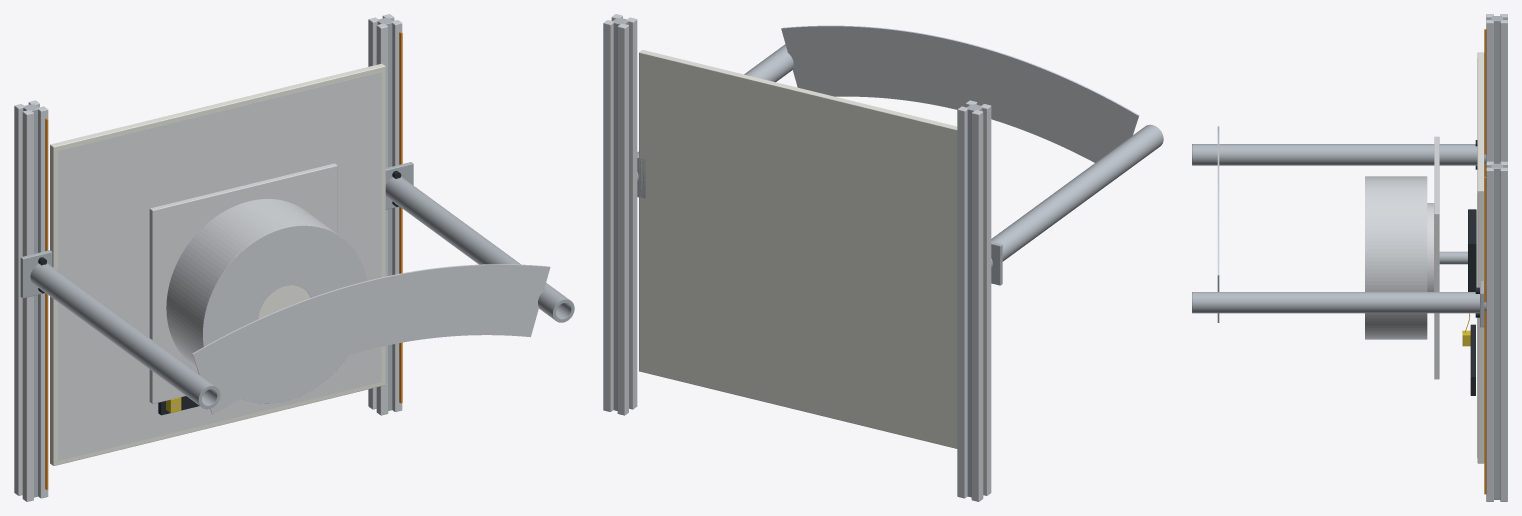
Rendered from prepared_cooler_fixed.glb.
3 renders of one model, left to right at view 1: azimuth 30°, elevation 25°; view 2: azimuth 150°, elevation 25°; view 3: azimuth 270°, elevation 25°, orthographic. The views are drawn at different scales.
Visible parts, largest first — view 1: COOLER_FIXED_BAND__mylar_base, COOLER_FIXED_BAND__fixed_reflector_band, COOLER_FIXED_BAND__aperture_plate, COOLER_FIXED_BAND__lift_plate, COOLER_FIXED_BAND__radiation_shield, COOLER_FIXED_BAND__acrylic_base, COOLER_FIXED_BAND__upright_-0.1625, COOLER_FIXED_BAND__upright_0.1625, COOLER_FIXED_BAND__rail_-0.1625_flange_-1_1, COOLER_FIXED_BAND__rail_-0.1625_flange_-1_-1, COOLER_FIXED_BAND__rail_-0.1625_flange_1_1, COOLER_FIXED_BAND__rail_0.1625_flange_1_1 (+8 smaller); view 2: COOLER_FIXED_BAND__acrylic_base, COOLER_FIXED_BAND__fixed_reflector_band, COOLER_FIXED_BAND__upright_-0.1625, COOLER_FIXED_BAND__rail_-0.1625_flange_-1_-1, COOLER_FIXED_BAND__rail_0.1625_flange_-1_-1, COOLER_FIXED_BAND__rail_-0.1625_flange_1_-1, COOLER_FIXED_BAND__rail_0.1625_flange_1_-1, COOLER_FIXED_BAND__rail_0.1625_flange_-1_1, COOLER_FIXED_BAND__rail_-0.1625_flange_-1_1, COOLER_FIXED_BAND__rail_-0.1625_core, COOLER_FIXED_BAND__rail_0.1625_core, COOLER_FIXED_BAND__upright_0.1625; view 3: COOLER_FIXED_BAND__radiation_shield, COOLER_FIXED_BAND__upright_0.1625, COOLER_FIXED_BAND__upright_-0.1625, COOLER_FIXED_BAND__acrylic_base, COOLER_FIXED_BAND__rail_0.1625_flange_1_-1, COOLER_FIXED_BAND__rail_0.1625_flange_1_1, COOLER_FIXED_BAND__rail_0.1625_core, COOLER_FIXED_BAND__lift_plate, COOLER_FIXED_BAND__rail_-0.1625_flange_1_1, COOLER_FIXED_BAND__rail_-0.1625_flange_1_-1, COOLER_FIXED_BAND__rail_-0.1625_core, COOLER_FIXED_BAND__orange_insert_0.1625 (+7 smaller).
Part boxes in pixels (x1,y1,x2,y2): COOLER_FIXED_BAND__mylar_base: [58, 72, 381, 460]; COOLER_FIXED_BAND__fixed_reflector_band: [192, 264, 550, 414]; COOLER_FIXED_BAND__aperture_plate: [202, 225, 367, 403]; COOLER_FIXED_BAND__lift_plate: [149, 163, 337, 403]; COOLER_FIXED_BAND__radiation_shield: [166, 199, 336, 367]; COOLER_FIXED_BAND__acrylic_base: [50, 63, 385, 465]; COOLER_FIXED_BAND__upright_-0.1625: [30, 263, 220, 409]; COOLER_FIXED_BAND__upright_0.1625: [385, 177, 574, 322]; COOLER_FIXED_BAND__rail_-0.1625_flange_-1_1: [22, 110, 33, 501]; COOLER_FIXED_BAND__rail_-0.1625_flange_-1_-1: [14, 104, 24, 495]; COOLER_FIXED_BAND__rail_-0.1625_flange_1_1: [38, 106, 48, 498]; COOLER_FIXED_BAND__rail_0.1625_flange_1_1: [392, 20, 402, 411]; COOLER_FIXED_BAND__acrylic_base: [639, 50, 957, 448]; COOLER_FIXED_BAND__fixed_reflector_band: [781, 25, 1139, 162]; COOLER_FIXED_BAND__upright_-0.1625: [991, 124, 1163, 268]; COOLER_FIXED_BAND__rail_-0.1625_flange_-1_-1: [971, 110, 983, 501]; COOLER_FIXED_BAND__rail_0.1625_flange_-1_-1: [617, 23, 628, 415]; COOLER_FIXED_BAND__rail_-0.1625_flange_1_-1: [957, 106, 967, 498]; COOLER_FIXED_BAND__rail_0.1625_flange_1_-1: [603, 20, 613, 411]; COOLER_FIXED_BAND__rail_0.1625_flange_-1_1: [626, 17, 637, 409]; COOLER_FIXED_BAND__rail_-0.1625_flange_-1_1: [981, 104, 991, 495]; COOLER_FIXED_BAND__rail_-0.1625_core: [967, 104, 982, 497]; COOLER_FIXED_BAND__rail_0.1625_core: [613, 17, 628, 410]; COOLER_FIXED_BAND__upright_0.1625: [637, 44, 793, 182]; COOLER_FIXED_BAND__radiation_shield: [1366, 176, 1427, 339]; COOLER_FIXED_BAND__upright_0.1625: [1192, 292, 1486, 313]; COOLER_FIXED_BAND__upright_-0.1625: [1192, 144, 1486, 165]; COOLER_FIXED_BAND__acrylic_base: [1477, 52, 1484, 463]; COOLER_FIXED_BAND__rail_0.1625_flange_1_-1: [1500, 167, 1507, 501]; COOLER_FIXED_BAND__rail_0.1625_flange_1_1: [1486, 167, 1493, 501]; COOLER_FIXED_BAND__rail_0.1625_core: [1491, 163, 1502, 499]; COOLER_FIXED_BAND__lift_plate: [1434, 136, 1439, 379]; COOLER_FIXED_BAND__rail_-0.1625_flange_1_1: [1486, 20, 1493, 161]; COOLER_FIXED_BAND__rail_-0.1625_flange_1_-1: [1500, 20, 1507, 161]; COOLER_FIXED_BAND__rail_-0.1625_core: [1491, 16, 1502, 163]; COOLER_FIXED_BAND__orange_insert_0.1625: [1484, 176, 1486, 494].
Bounding box in the file's own units: 0.359 × 0.34 × 0.2935.
